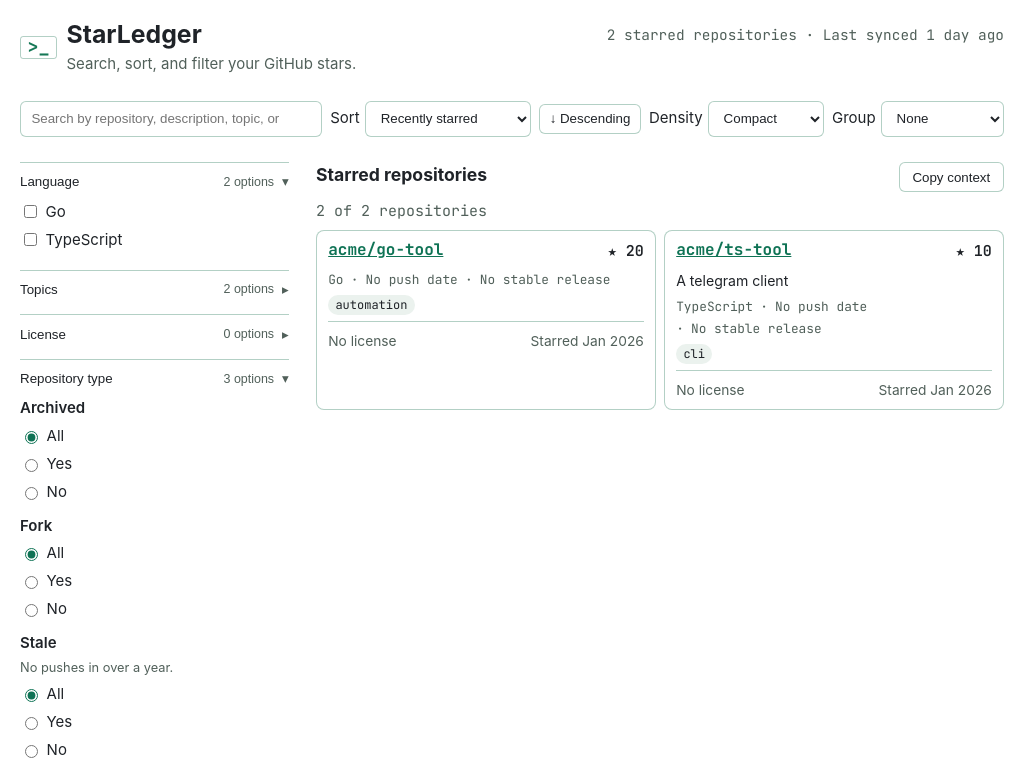
Test: RepositoryView › SEARCH: narrows results and reflects the query in the URL (replaceState)
The width and height of the screenshot is (1024, 768).
Type "telegram" into the search field named "Search repositories". click: (171, 119)
box: [20,101,322,137]
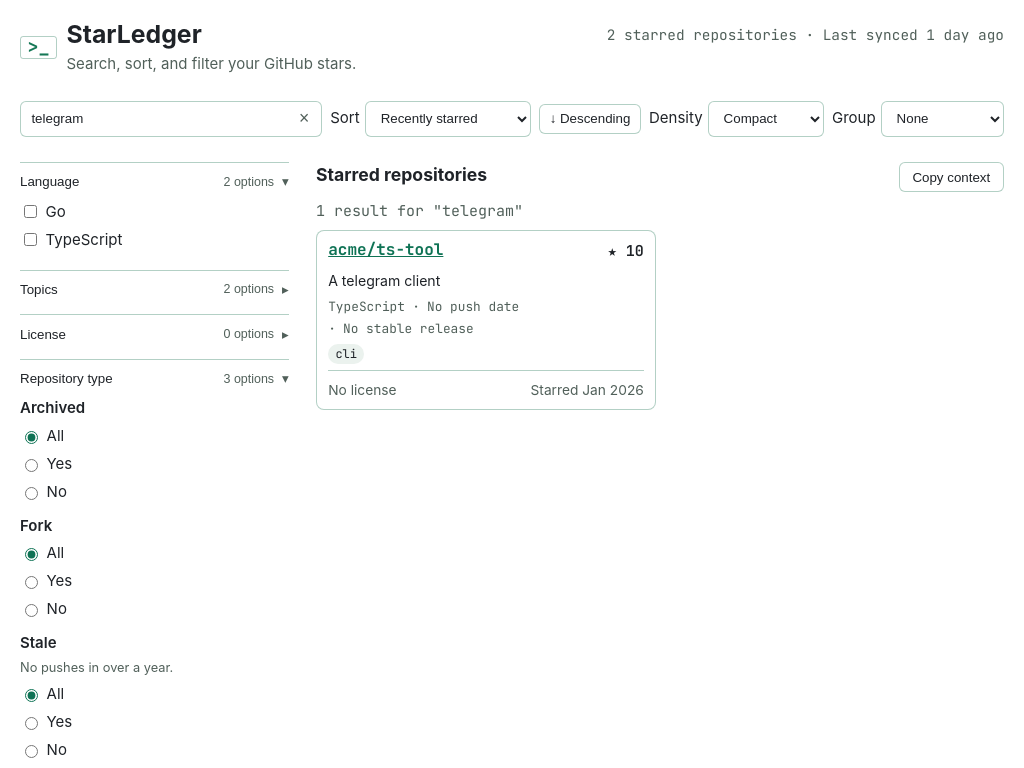
Result: the text "1 result for \"telegram\"" is shown at [316,201,523,221]
Click the button named "Clear search". click: (304, 119)
box: [290,105,318,133]
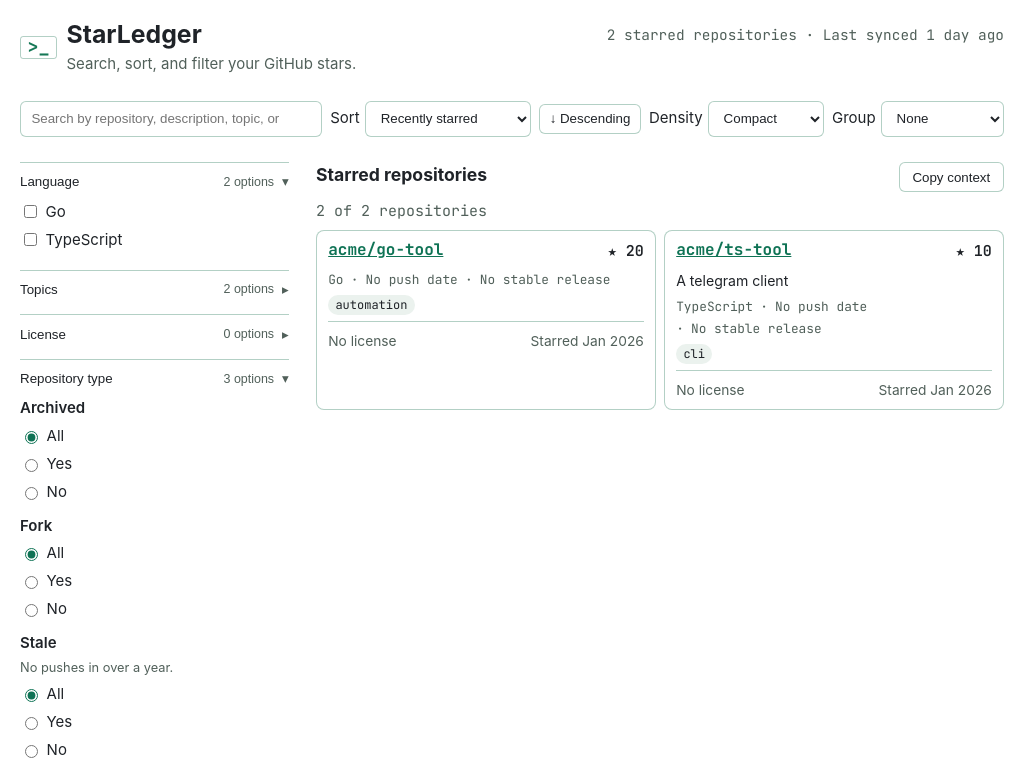
Result: the search field named "Search repositories" is empty at [20,101,322,137]
